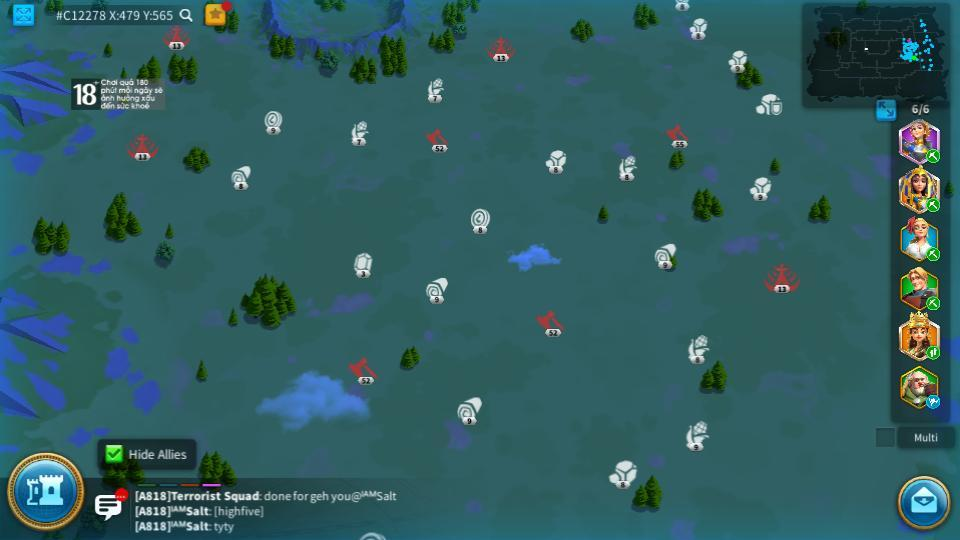gem-z-out: (350, 253, 374, 276)
march_idle: (925, 396, 942, 408)
march_marching: (925, 197, 941, 212), (925, 347, 941, 359), (925, 150, 941, 162), (925, 297, 942, 308)
